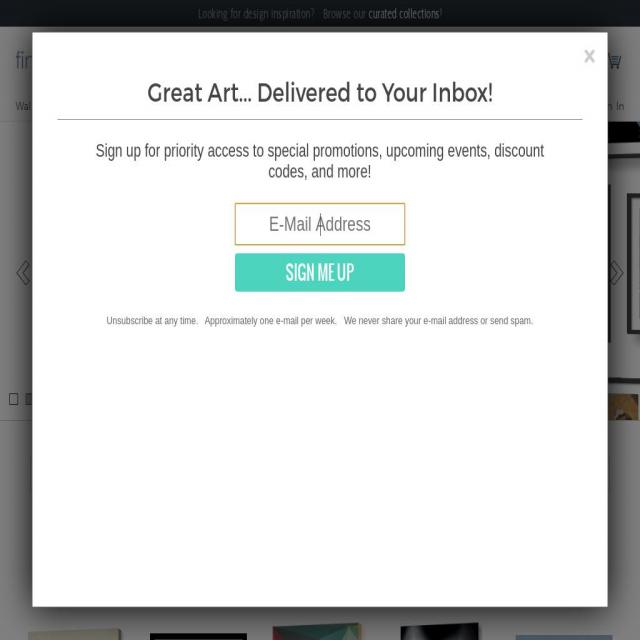sign-up-form: (230, 193, 414, 305)
